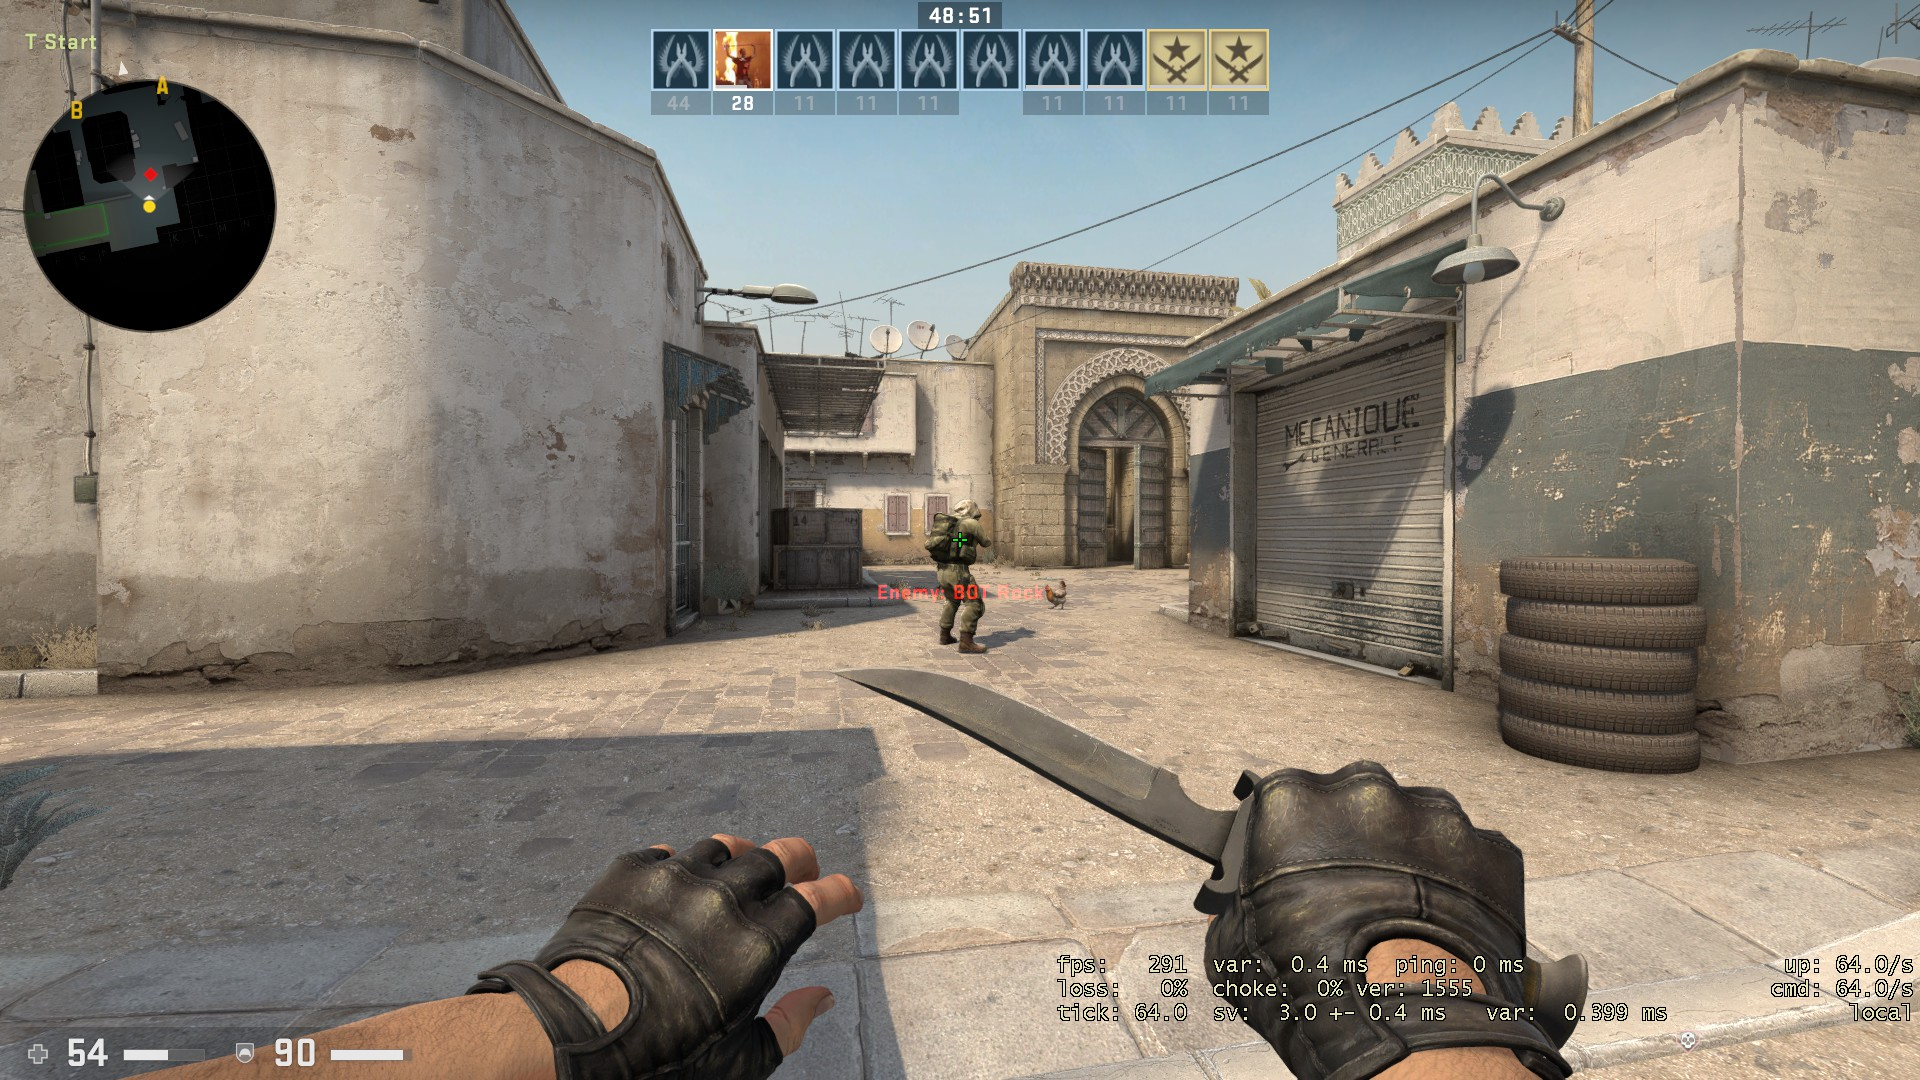player: (918, 495, 1001, 660)
